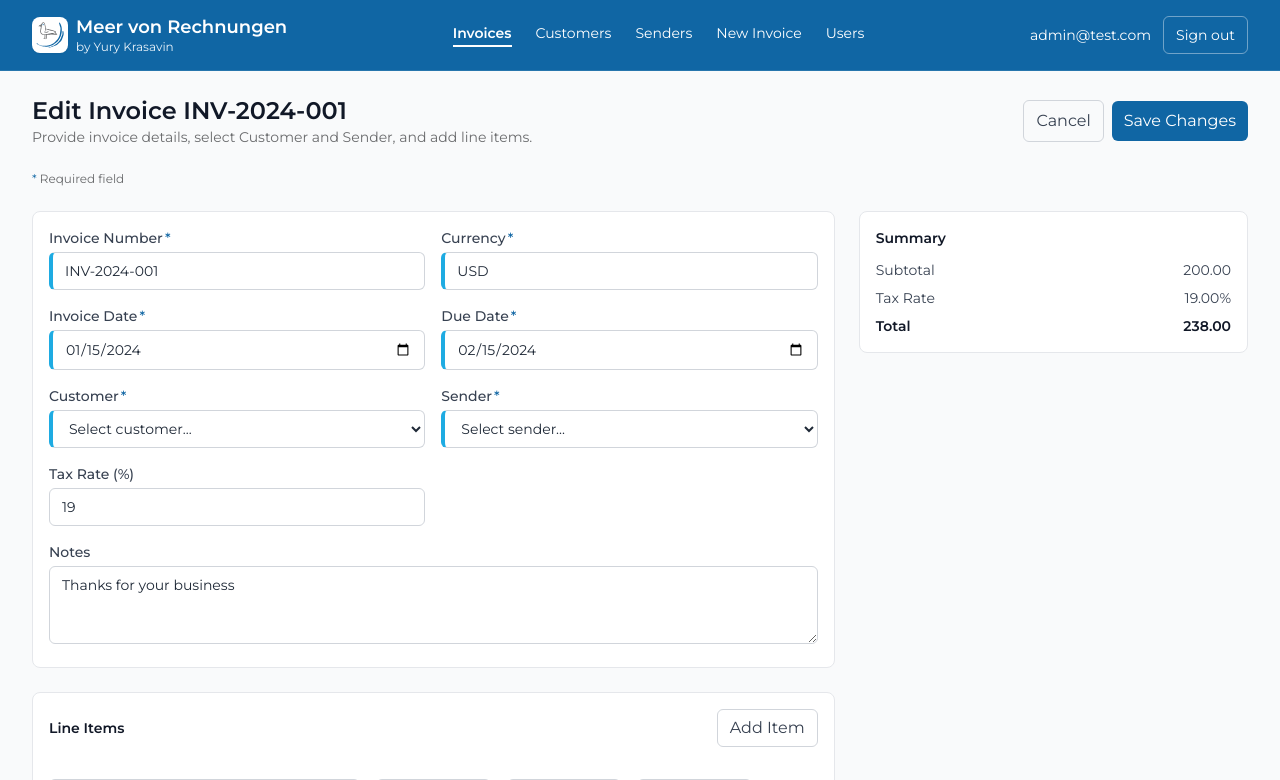
Test: client-side navigation between sibling form routes › remounts InvoiceForm with a clean state when navigating from edit to new via the nav link, not the leaked edit-mode values
The image size is (1280, 780).
Expected: the field labelled "Currency" holds "USD", [441,252,818,290]
Expected: the field labelled "Invoice Number" holds "INV-2024-001", [49,252,425,290]
Click the link "New Invoice". click: (759, 35)
box: [716,23,802,47]
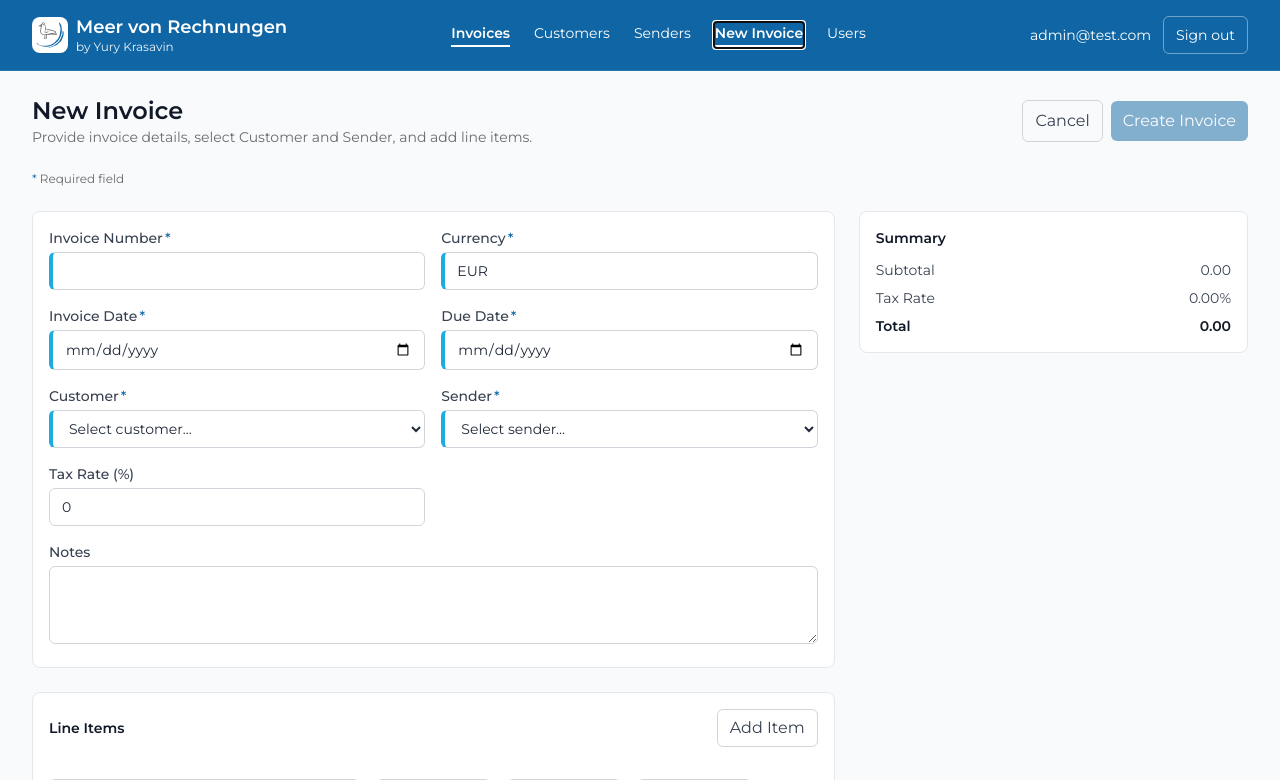
Expected: the heading "New Invoice" is shown, [32,96,183,125]
Expected: the field labelled "Currency" holds "EUR", [441,252,818,290]
Expected: the field labelled "Invoice Number" is empty, [49,252,425,290]
